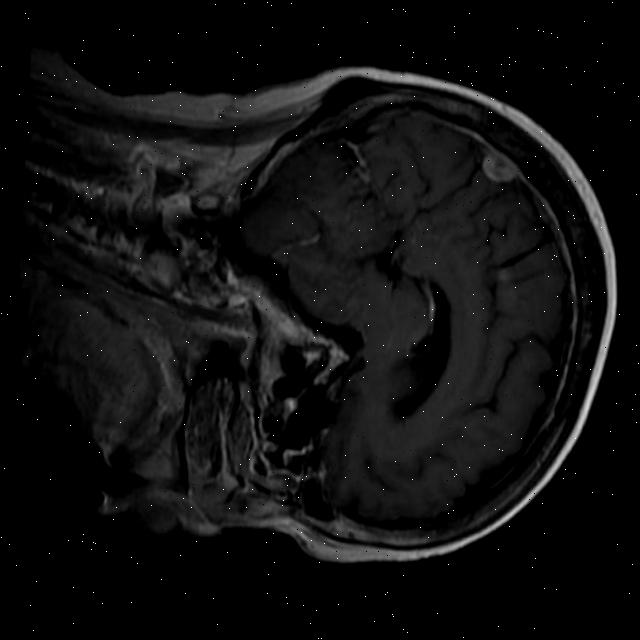Meningioma: (477, 151, 522, 184)
